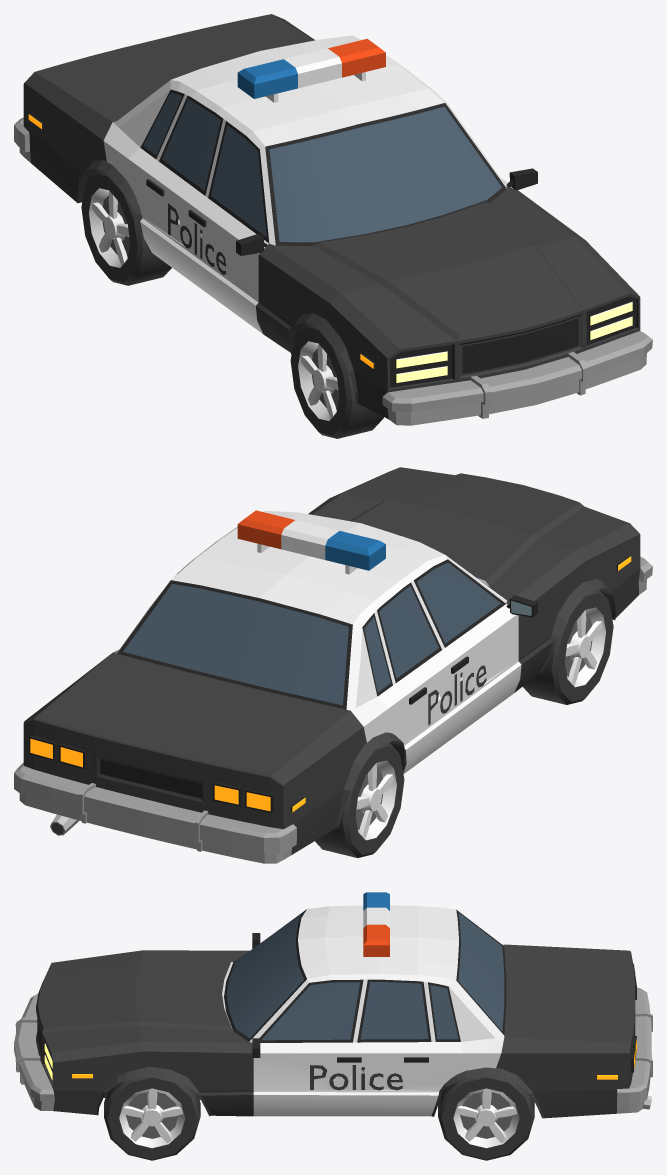
File: police.glb
3 views of the same model, one above another, from view 1: azimuth 30°, elevation 25°; view 2: azimuth 150°, elevation 25°; view 3: azimuth 270°, elevation 25° (orthographic). The views are drawn at different scales.
Visible parts, largest first — view 1: Police Car N_4, Police Car N_4 FR Tire, Police Car N_4 BR Tire; view 2: Police Car N_4, Police Car N_4 FR Tire, Police Car N_4 BR Tire; view 3: Police Car N_4, Police Car N_4 FL Tire, Police Car N_4 BL Tire.
Part boxes in pixels (bbox=[...]): Police Car N_4: bbox=[14, 14, 652, 425]; Police Car N_4 FR Tire: bbox=[290, 323, 383, 438]; Police Car N_4 BR Tire: bbox=[81, 169, 171, 285]; Police Car N_4: bbox=[14, 467, 652, 863]; Police Car N_4 FR Tire: bbox=[522, 589, 613, 704]; Police Car N_4 BR Tire: bbox=[315, 742, 404, 857]; Police Car N_4: bbox=[14, 892, 652, 1118]; Police Car N_4 FL Tire: bbox=[104, 1075, 200, 1160]; Police Car N_4 BL Tire: bbox=[438, 1075, 534, 1160].
Size of the model in its own units: 2.13 by 1.67 by 4.97.
2 materials, 2 textured.
